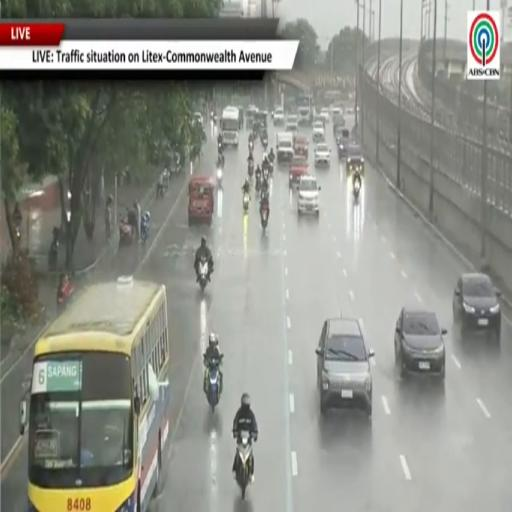bus: (20, 277, 170, 511), (221, 107, 240, 147), (297, 93, 314, 125)
car: (316, 317, 374, 417), (394, 308, 446, 378), (453, 274, 501, 341), (297, 175, 320, 214), (289, 156, 309, 187), (346, 141, 364, 175), (276, 133, 293, 164), (336, 127, 350, 161), (315, 142, 330, 167), (294, 134, 308, 158), (333, 109, 345, 134), (246, 105, 258, 129), (312, 122, 324, 142), (285, 116, 297, 133), (273, 107, 284, 125), (320, 108, 330, 124), (331, 106, 342, 119), (313, 114, 324, 127), (194, 111, 203, 125), (345, 107, 354, 117)
motorcycle: (236, 431, 252, 500), (207, 355, 223, 411), (48, 228, 60, 271), (57, 283, 73, 312), (119, 219, 134, 247), (198, 258, 209, 291), (141, 212, 150, 244), (261, 205, 269, 230), (353, 176, 361, 200), (255, 171, 261, 192), (243, 192, 249, 213), (216, 168, 222, 187), (262, 168, 269, 181), (14, 226, 20, 241), (248, 162, 253, 178), (211, 112, 217, 124), (262, 137, 267, 150), (218, 141, 223, 153), (269, 162, 273, 175), (249, 140, 253, 153)
